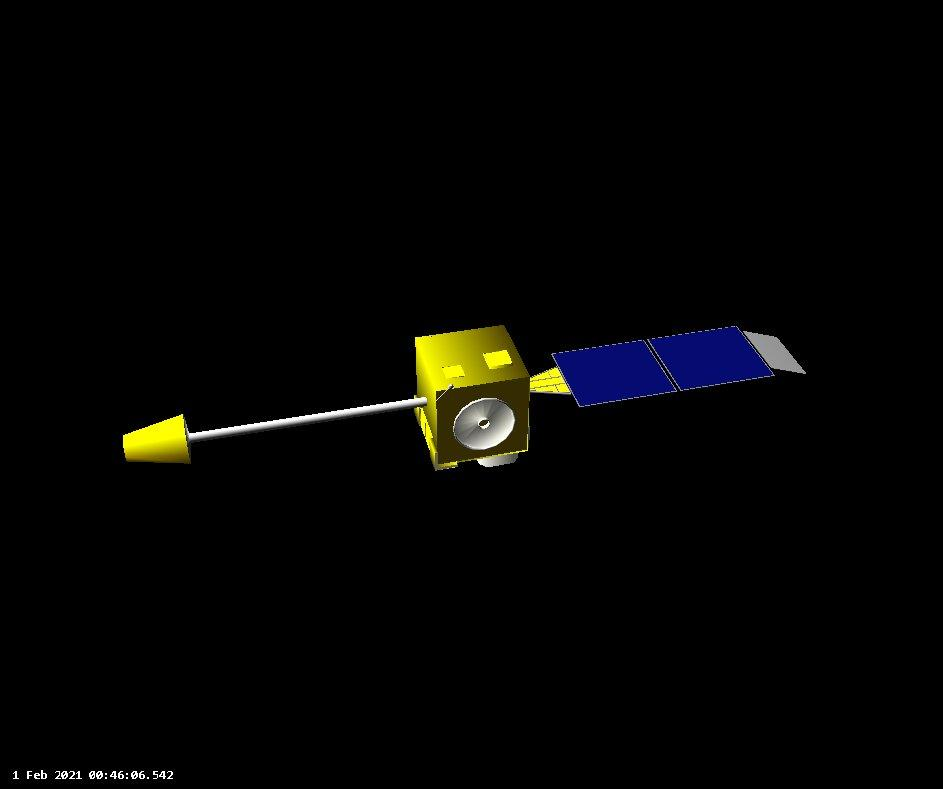antenna: (121, 389, 429, 471)
body: (404, 320, 536, 470)
solar: (527, 319, 809, 411)
